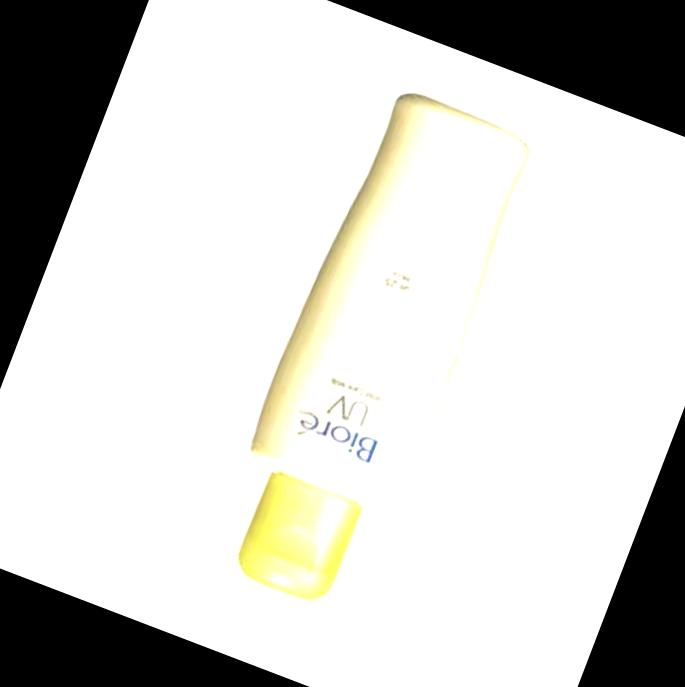cosmetic: (201, 81, 541, 626)
